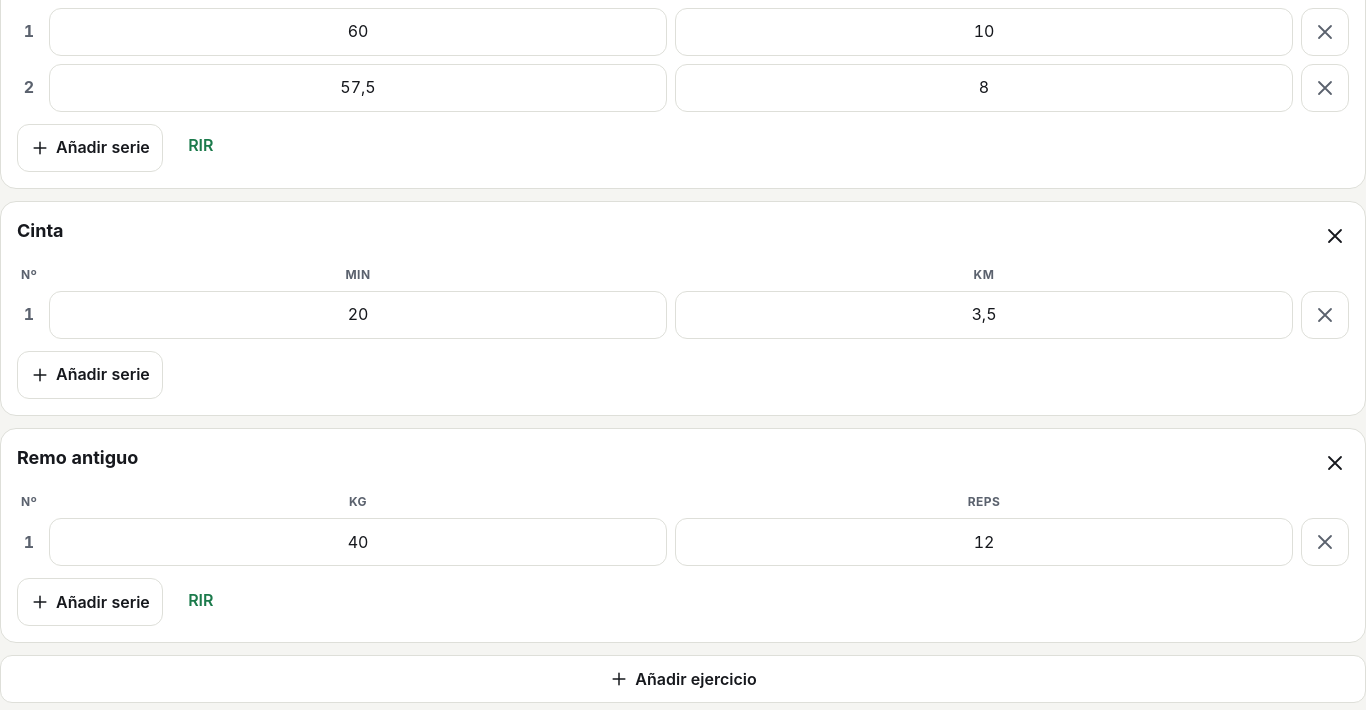
WorkoutDetail: edición › una serie añadida y sin rellenar no se manda
This screenshot has width=1366, height=710.
(page scrolled)
Click the button "Añadir serie" below "Cinta" at [90, 375], box [17,351,163,399]
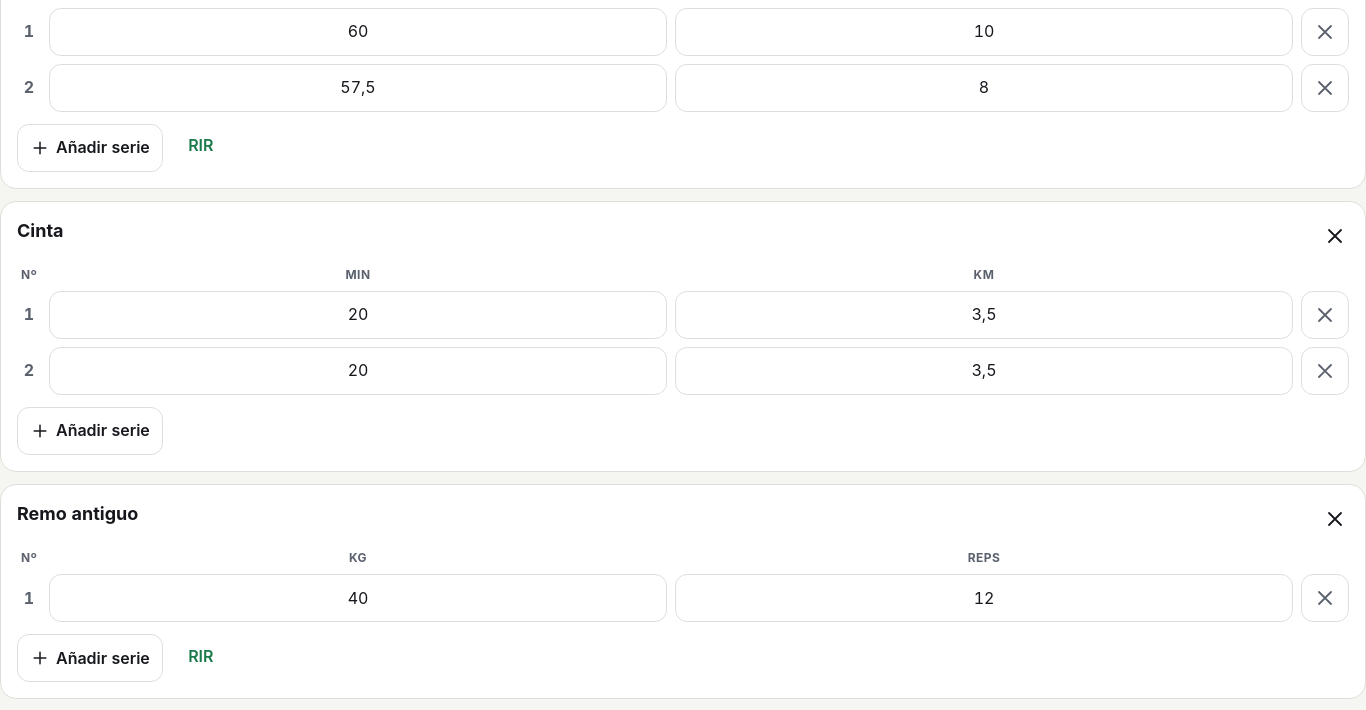
Clear the field named "Minutos, serie 2 de Cinta" at [358, 371], box [49,347,667,395]
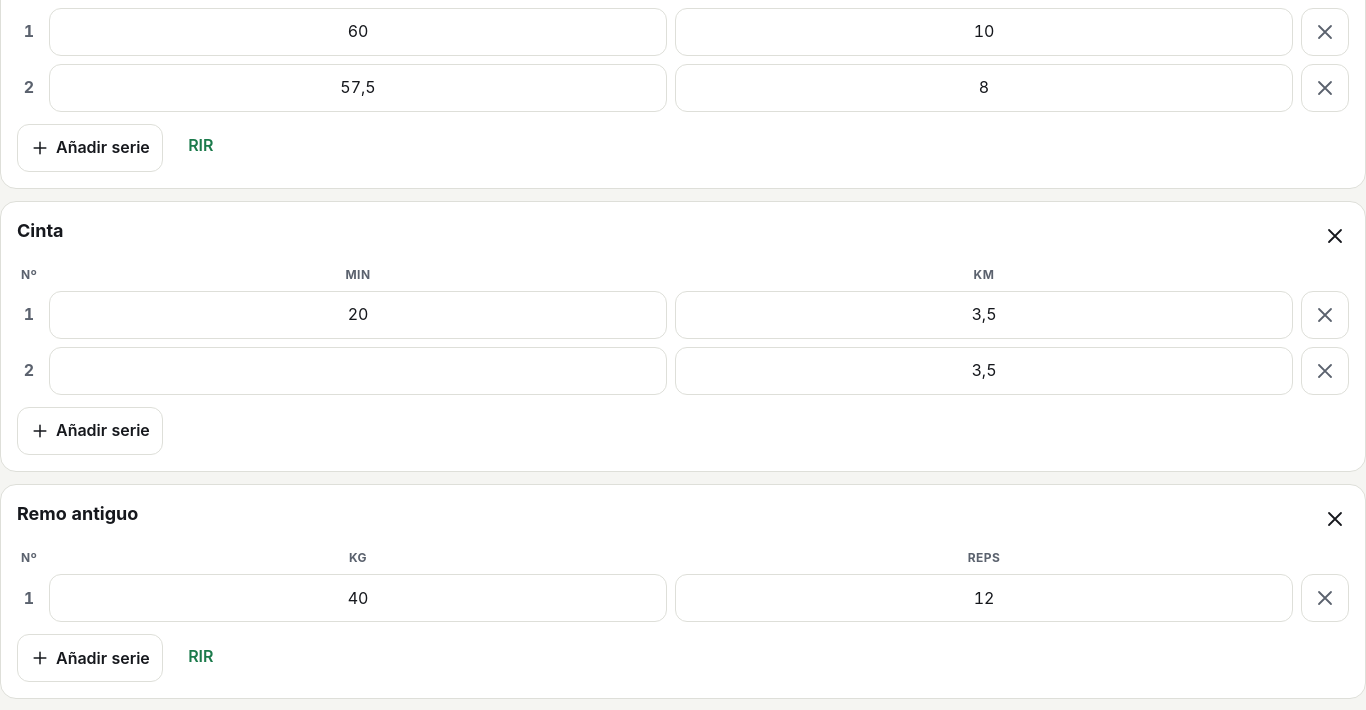
Clear the field named "Distancia (km), serie 2 de Cinta" at [984, 371], box [675,347,1293,395]
(page scrolled)
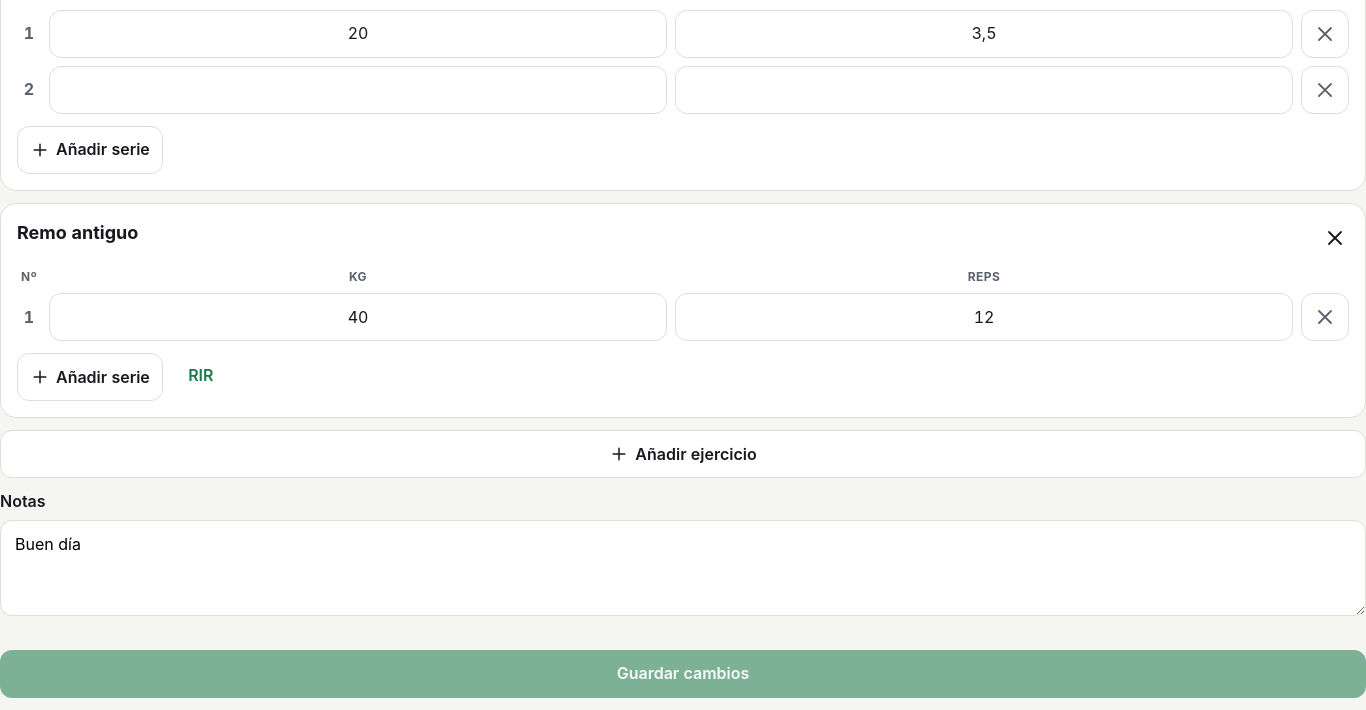
Replace the text in the text box labelled "Notas" with "Otra nota" at [683, 568], box [0,520,1365,616]
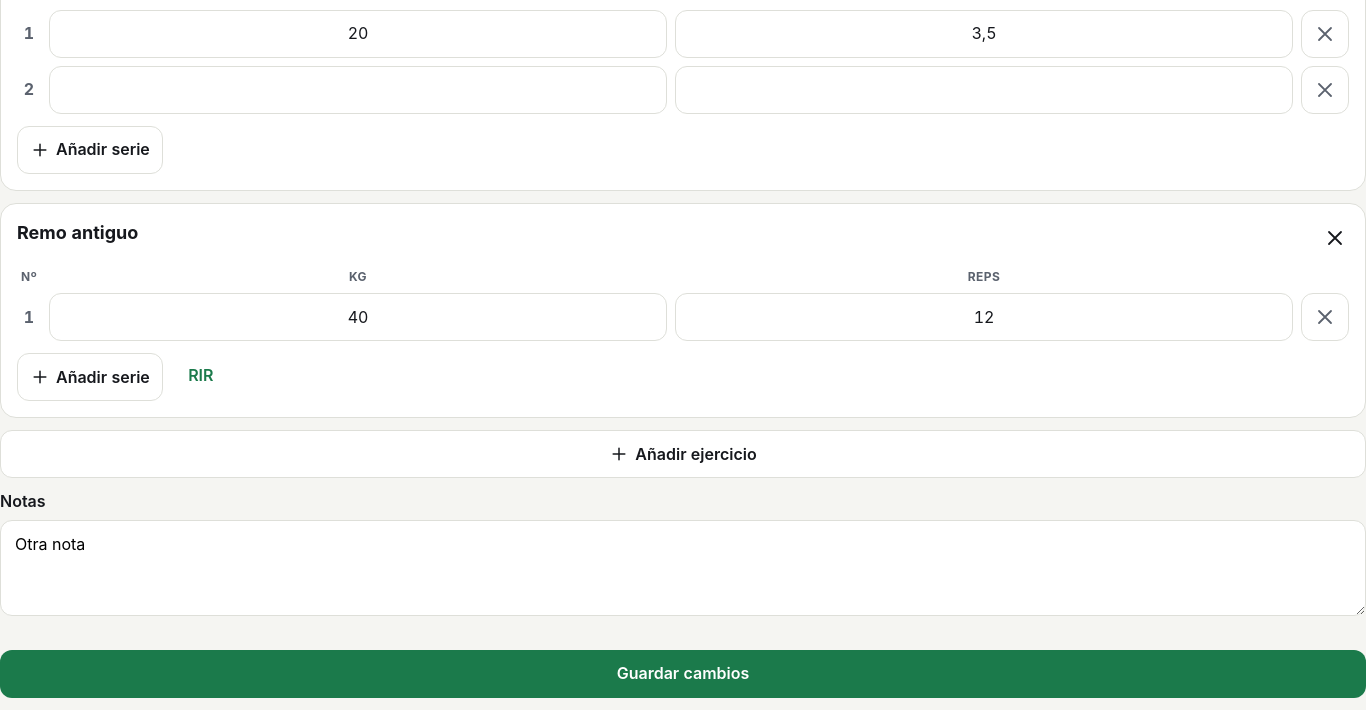
Click the button "Guardar cambios" at [683, 674], box [0,650,1365,698]
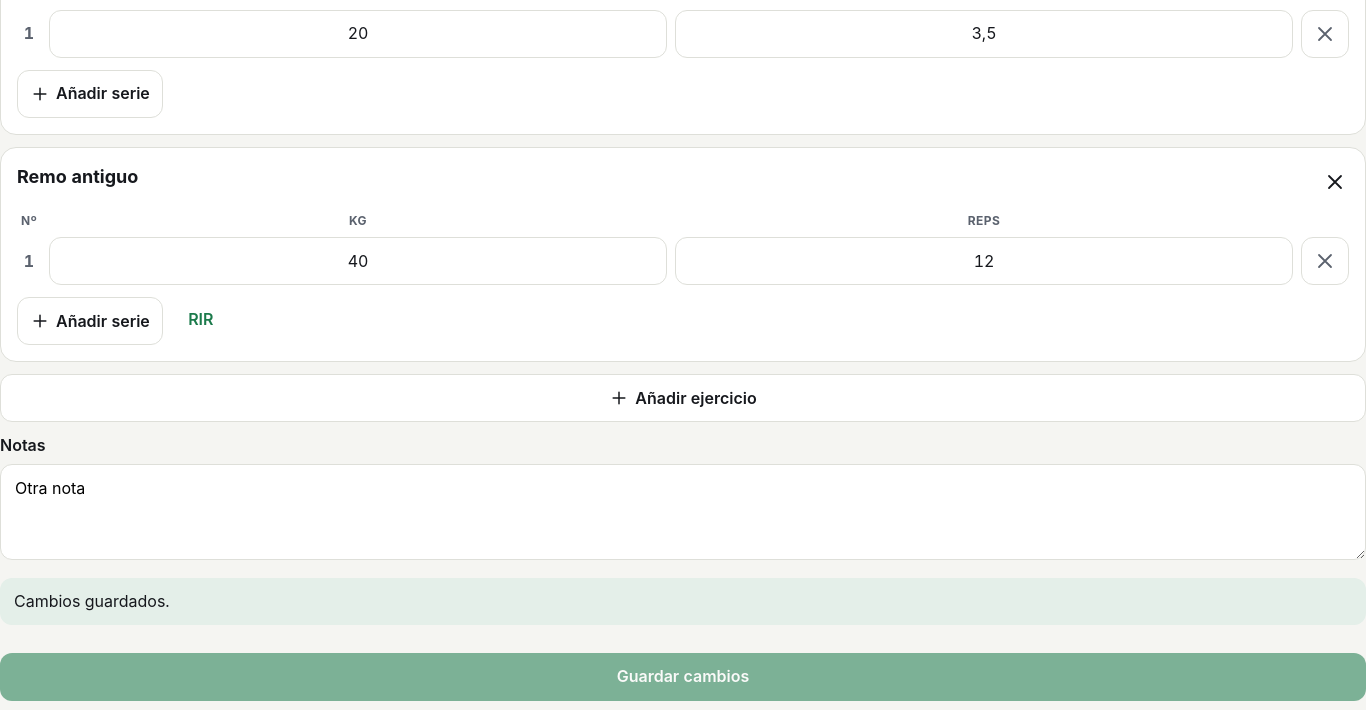
Expected: the text "Cambios guardados." is shown, [0,578,1365,625]
